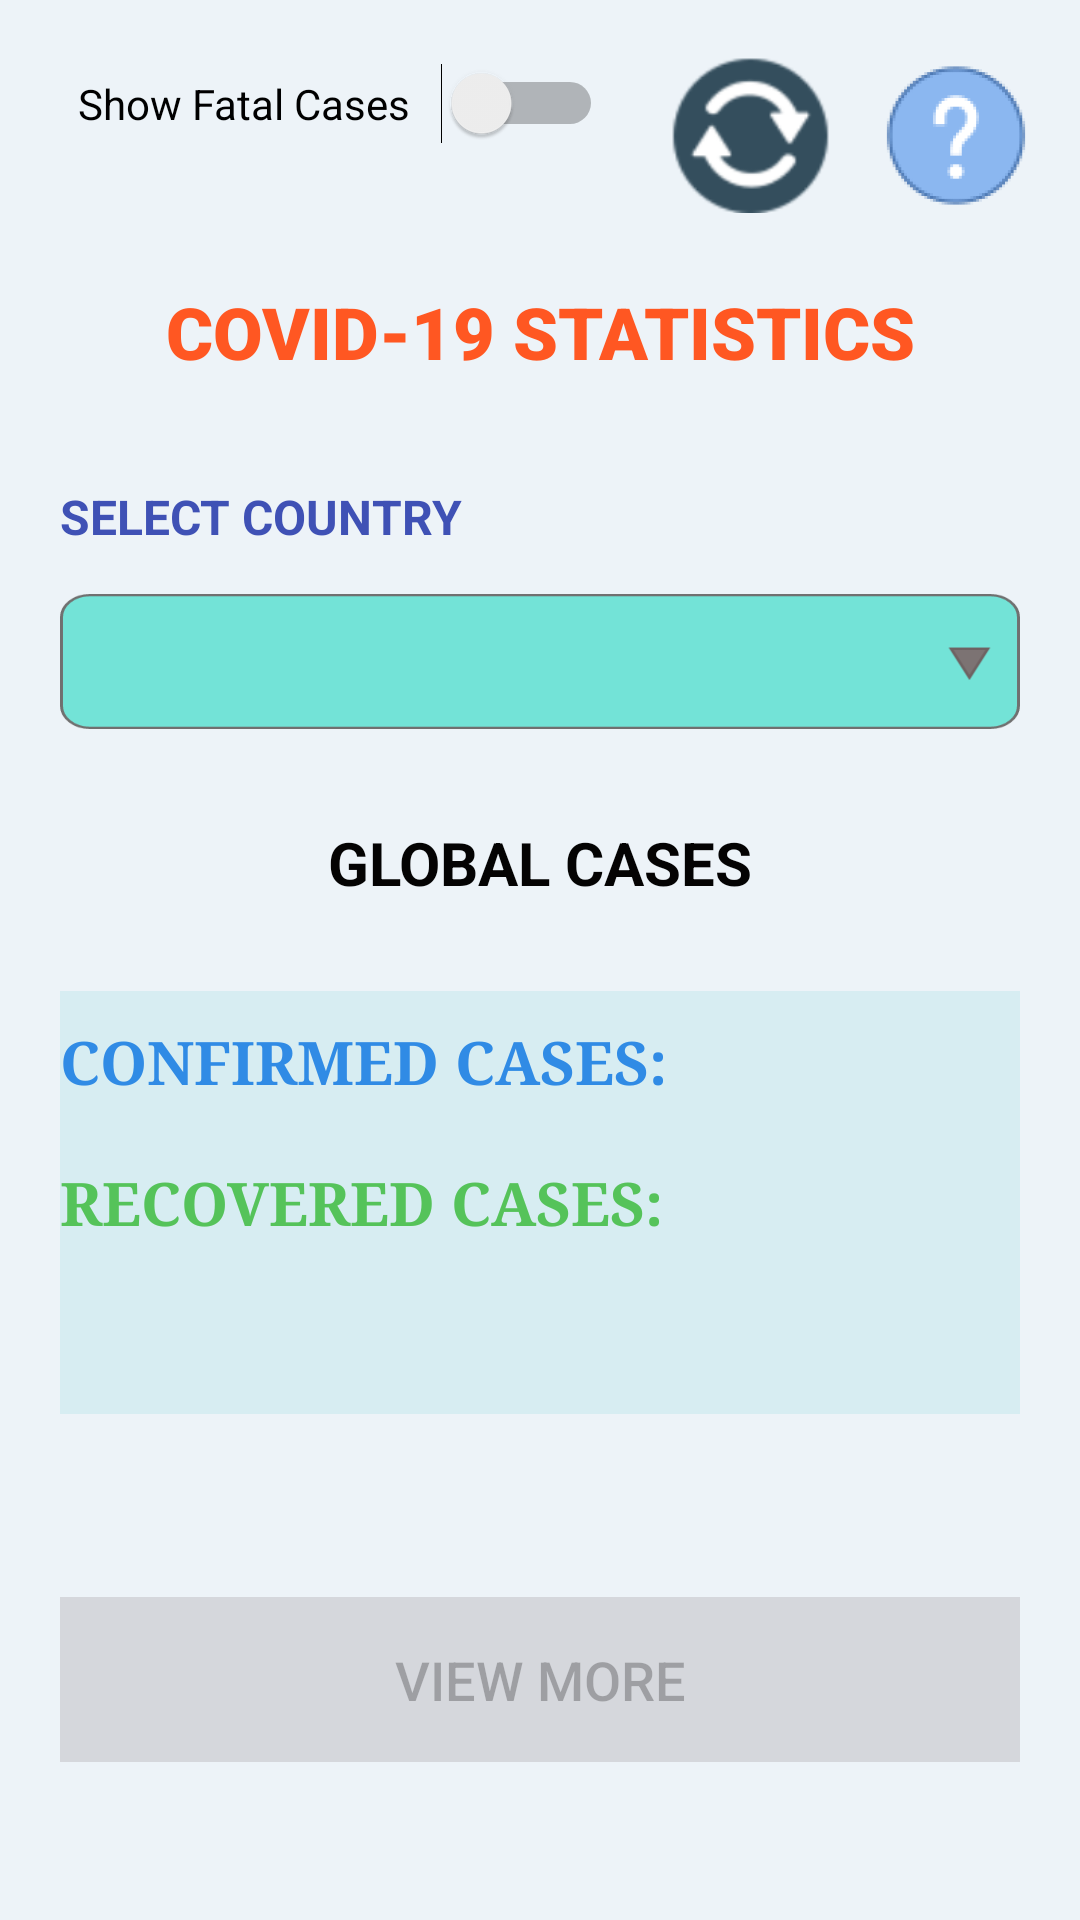

Icon click points for this 1080*1920 phone screenshot, format (x,y):
Swipe down to refresh page: (750,135)
